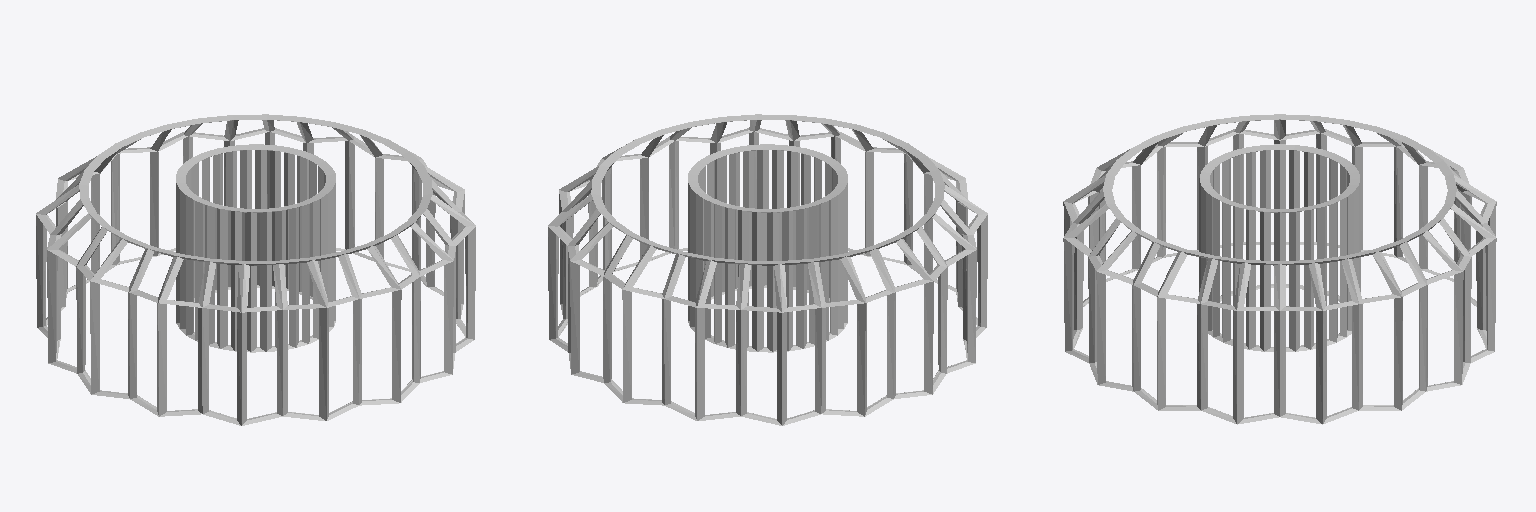
The model's file is Bouton.obj.
3 views of the same model, side by side, from view 1: azimuth 30°, elevation 25°; view 2: azimuth 150°, elevation 25°; view 3: azimuth 270°, elevation 25° (orthographic).
Parts seen in each view (by area): view 1: Cylinder.001; view 2: Cylinder.001; view 3: Cylinder.001.
Boxes of the visible parts, x1=… form: Cylinder.001: x1=36, y1=114, x2=475, y2=425; Cylinder.001: x1=548, y1=114, x2=987, y2=425; Cylinder.001: x1=1063, y1=114, x2=1496, y2=424.
Size of the model in its own units: 2.01 by 0.7974 by 2.01.